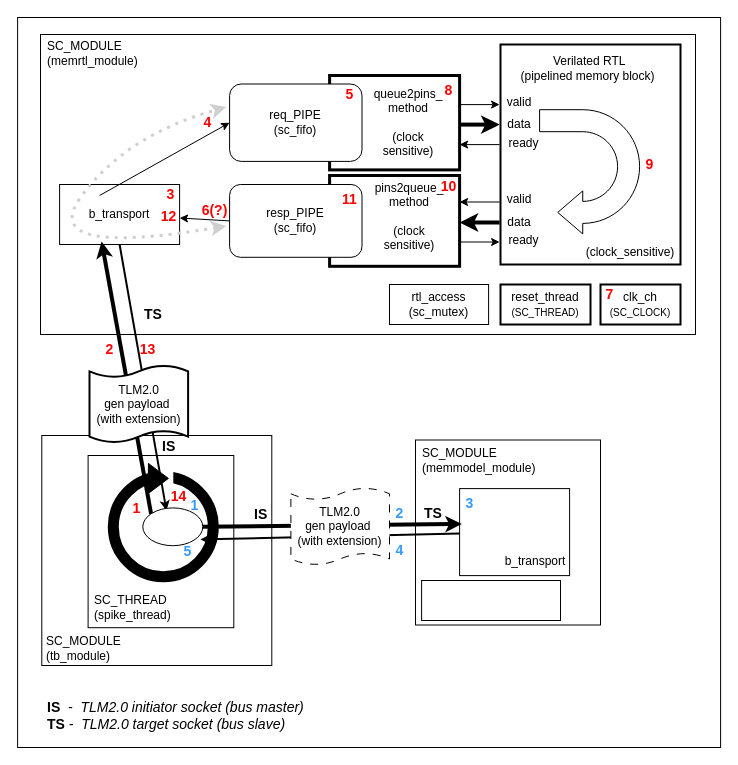
Some shapes in this 738 by 765 pixel diagram are drawn without their labels. The shapes that lost their labels are listed below. From the top down, each one's centre as x and y in pixels, then its label:
pixel 172 526: b_transp call
pixel 490 600: std_map_sparse_array
